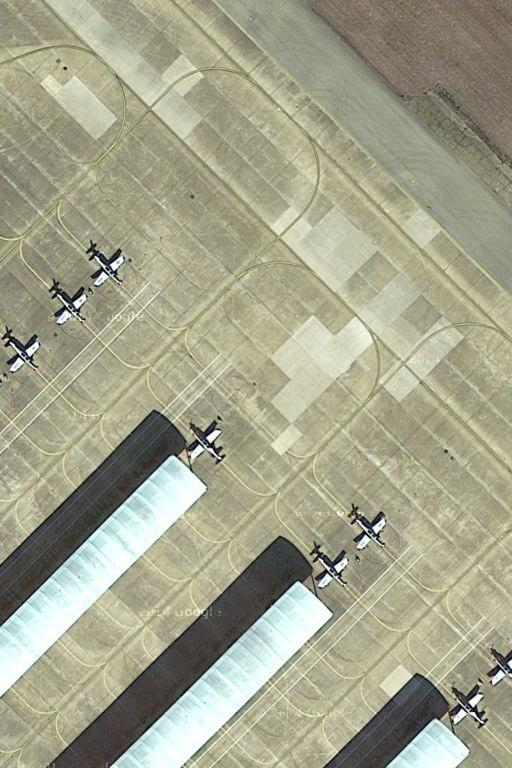plane: (309, 544, 353, 590), (347, 510, 392, 553), (47, 284, 91, 327), (448, 686, 488, 733), (186, 423, 229, 466), (86, 244, 127, 288), (3, 331, 42, 373)
